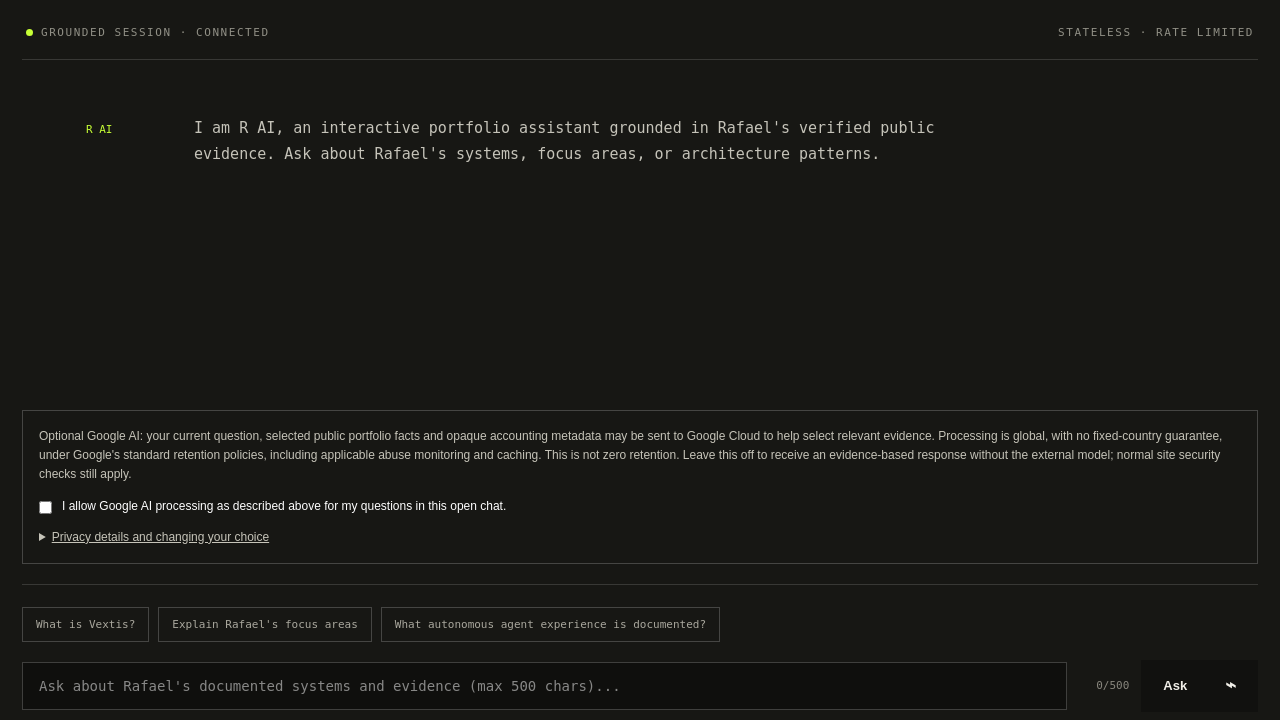
Test: AssistantChat request preparation failures › recovers to the same retryable state when preparation throws
Replace the text in the field named "Your question" with "Explain Rafael's focus areas". click: [545, 686]
box: [22,662,1067,710]
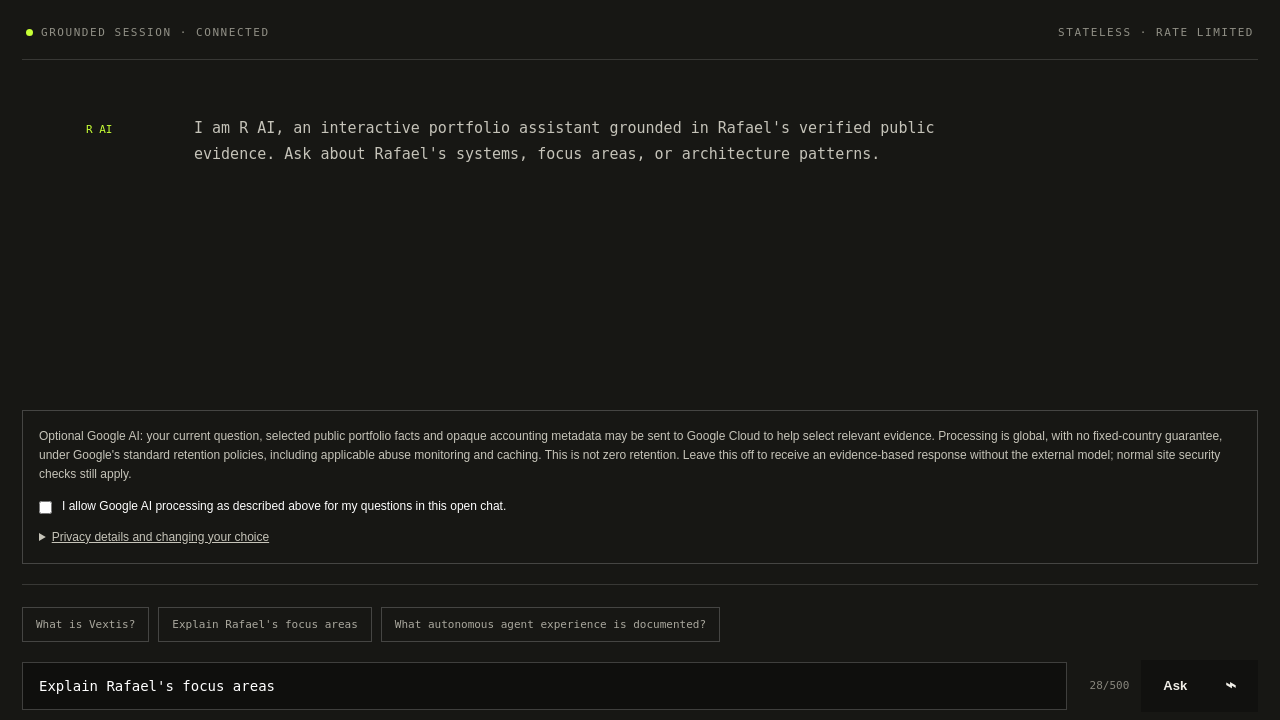
Submit the form named "Your question", box [22,660,1258,712]
(page scrolled)
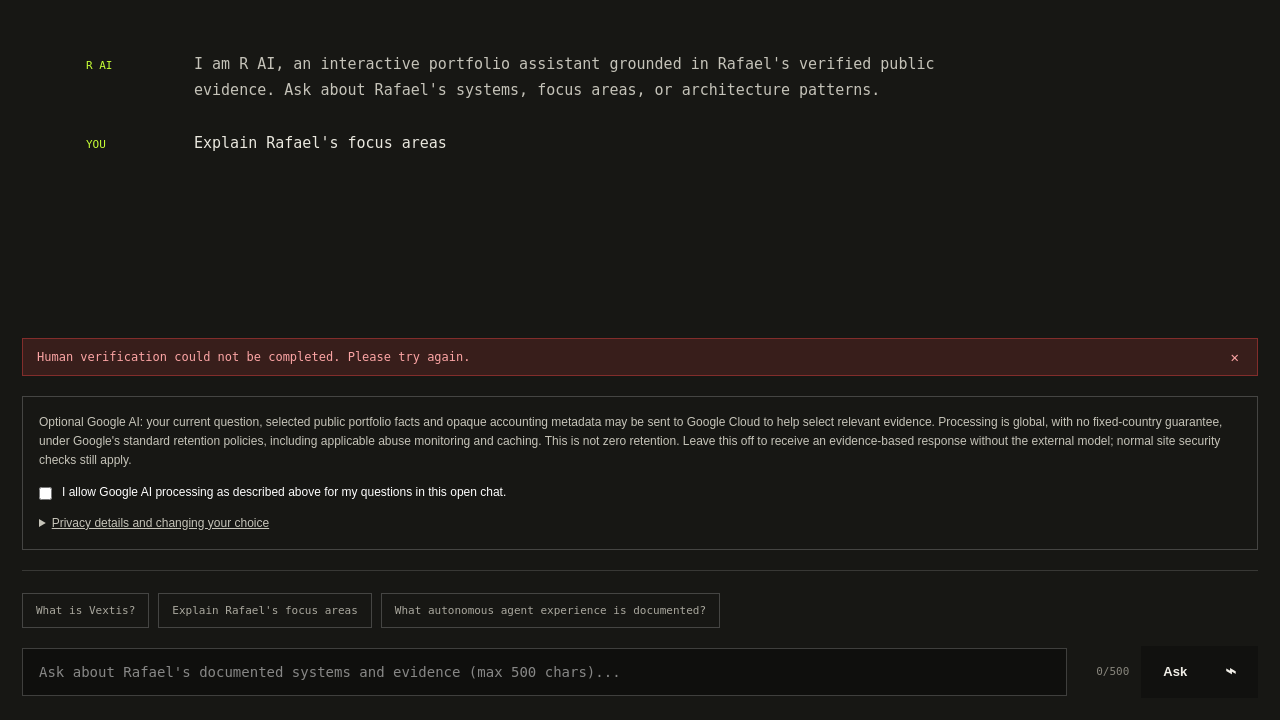
Expected: the field named "Your question" is enabled, [22,648,1067,696]
Result: the message shows "Human verification could not be completed" at [37,350,470,364]
